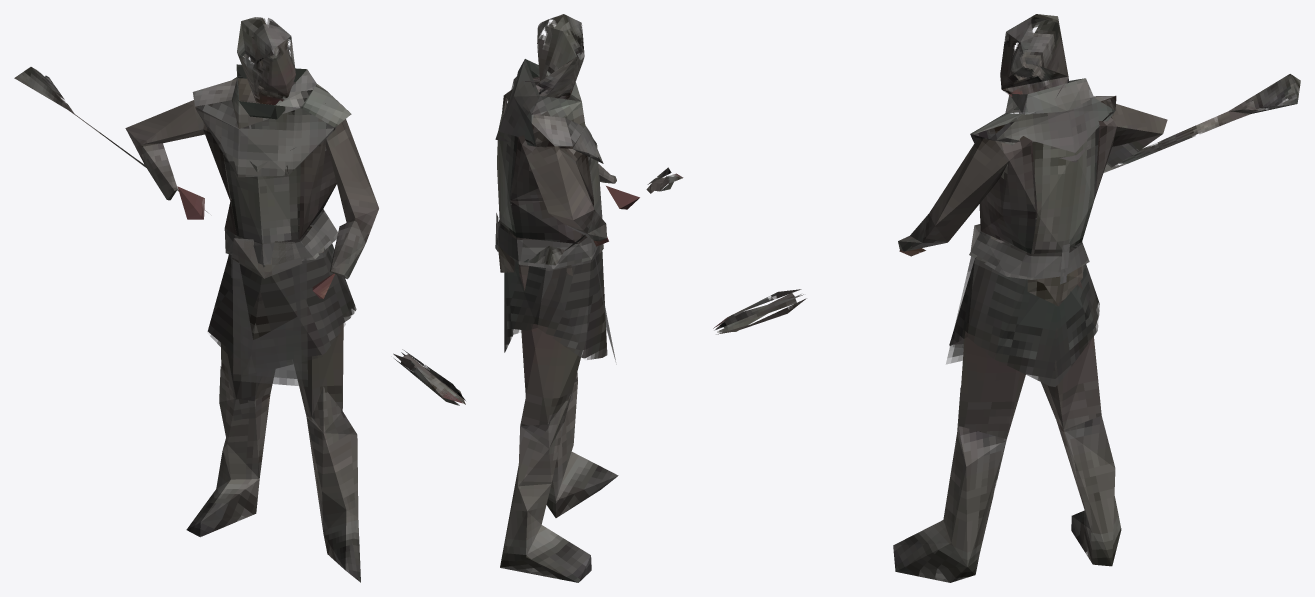
The picture shows the model from 3 angles, left to right: view 1: azimuth 30°, elevation 25°; view 2: azimuth 150°, elevation 25°; view 3: azimuth 270°, elevation 25°; orthographic projection. The views are drawn at different scales.
Visible parts, largest first — view 1: Circle.000_Jaffa_Staff_0; view 2: Circle.000_Jaffa_Staff_0; view 3: Circle.000_Jaffa_Staff_0.
Boxes of the visible parts, x1,y1,x2,y2 form: Circle.000_Jaffa_Staff_0: (14, 17, 465, 582); Circle.000_Jaffa_Staff_0: (495, 14, 683, 582); Circle.000_Jaffa_Staff_0: (713, 14, 1300, 582).
Size of the model in its own units: 0.7424 by 1.93 by 1.9.
1 material, 1 textured.
